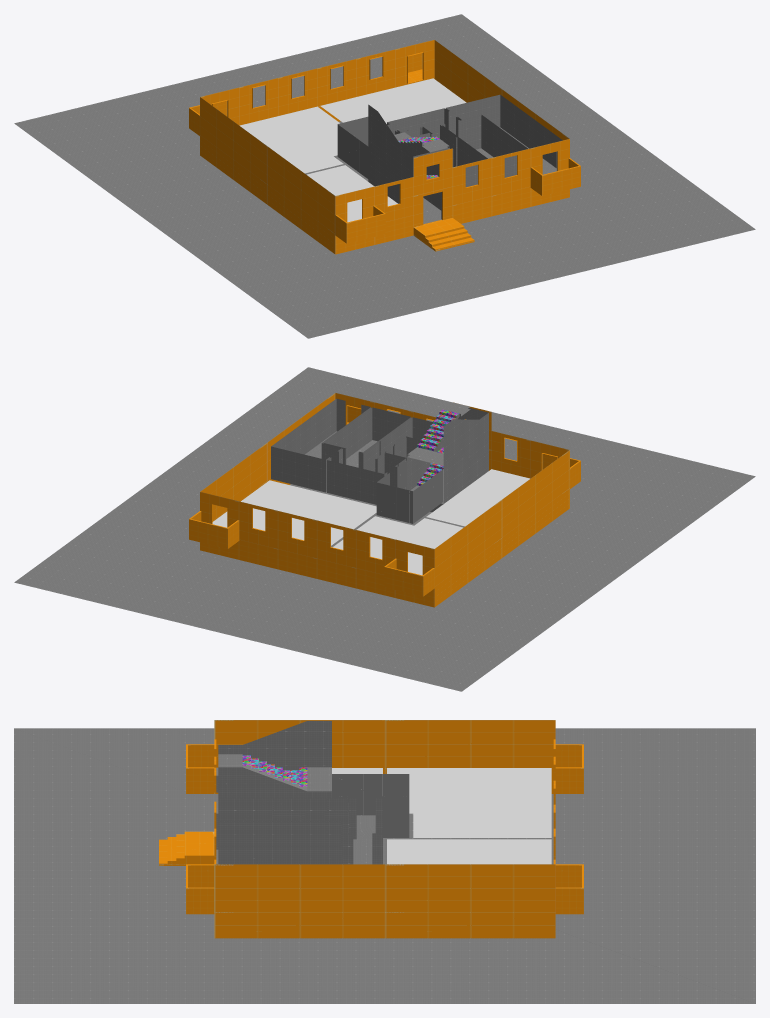
Rendered from building.FBX.
3 renders of one model, top to bottom at view 1: azimuth 30°, elevation 25°; view 2: azimuth 150°, elevation 25°; view 3: azimuth 270°, elevation 25°, orthographic. The views are drawn at different scales.
Parts seen in each view (by area): view 1: terrain, exterior, flat_0, flat_2, flat_3, stairs_mid_room, Object001, stairs_bot_room, flat_1; view 2: terrain, exterior, flat_0, flat_3, stairs_mid_room, Object001, flat_1, flat_2, stairs_bot_room; view 3: terrain, exterior, flat_0, flat_2, stairs_mid_room, flat_3, Object001.
Boxes of the visible parts, left/top/right/bottom form: terrain: left=14, top=14, right=755, bottom=338; exterior: left=189, top=40, right=580, bottom=254; flat_0: left=387, top=94, right=562, bottom=187; flat_2: left=240, top=106, right=343, bottom=173; flat_3: left=320, top=78, right=466, bottom=123; stairs_mid_room: left=368, top=104, right=449, bottom=180; Object001: left=337, top=116, right=404, bottom=178; stairs_bot_room: left=368, top=143, right=441, bottom=223; flat_1: left=307, top=165, right=397, bottom=222; terrain: left=14, top=367, right=755, bottom=691; exterior: left=189, top=393, right=580, bottom=607; flat_0: left=271, top=398, right=432, bottom=504; flat_3: left=212, top=480, right=376, bottom=545; stairs_mid_room: left=407, top=402, right=488, bottom=490; Object001: left=376, top=460, right=443, bottom=523; flat_1: left=426, top=469, right=529, bottom=526; flat_2: left=333, top=516, right=462, bottom=575; stairs_bot_room: left=410, top=447, right=488, bottom=512; terrain: left=14, top=728, right=755, bottom=1003; exterior: left=159, top=720, right=583, bottom=938; flat_0: left=218, top=798, right=382, bottom=864; flat_2: left=387, top=768, right=551, bottom=837; stairs_mid_room: left=216, top=721, right=331, bottom=811; flat_3: left=387, top=839, right=551, bottom=864; Object001: left=332, top=774, right=409, bottom=838.
Bounding box in the file's own units: 34.38 × 7.1 × 39.14.
4 materials, 4 textured.
